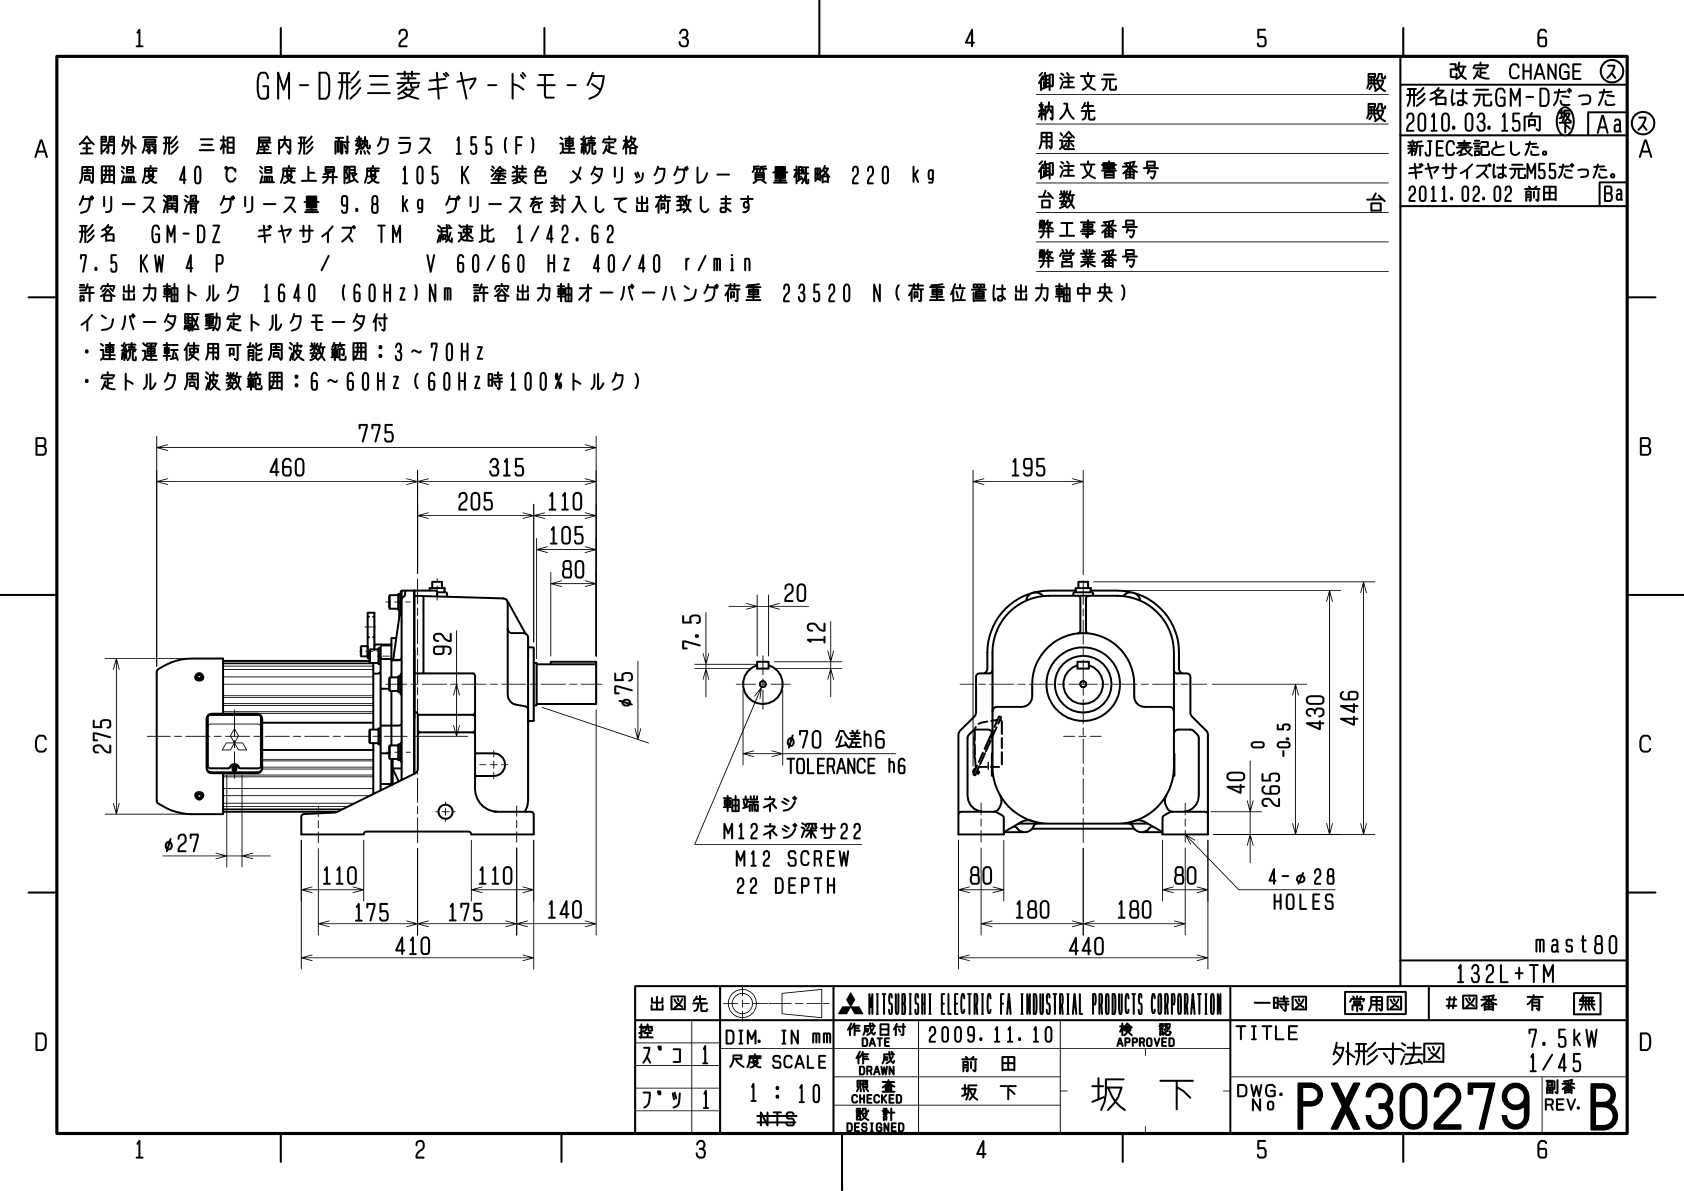GM_D_インバータ屋内_三相_脚: (70, 409, 1403, 974)
